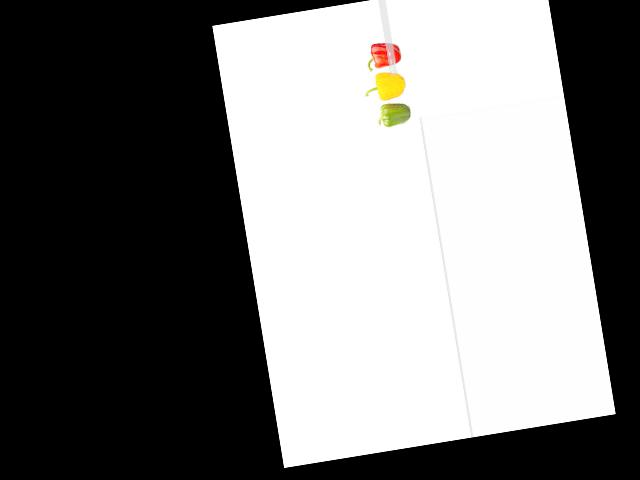bell_pepper: (370, 100, 415, 132)
